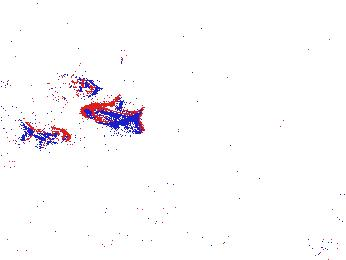X-ray fish: (40, 73, 100, 100), (3, 26, 38, 62)
red belly glassfish: (79, 101, 143, 125), (24, 124, 72, 145), (293, 36, 325, 57)
